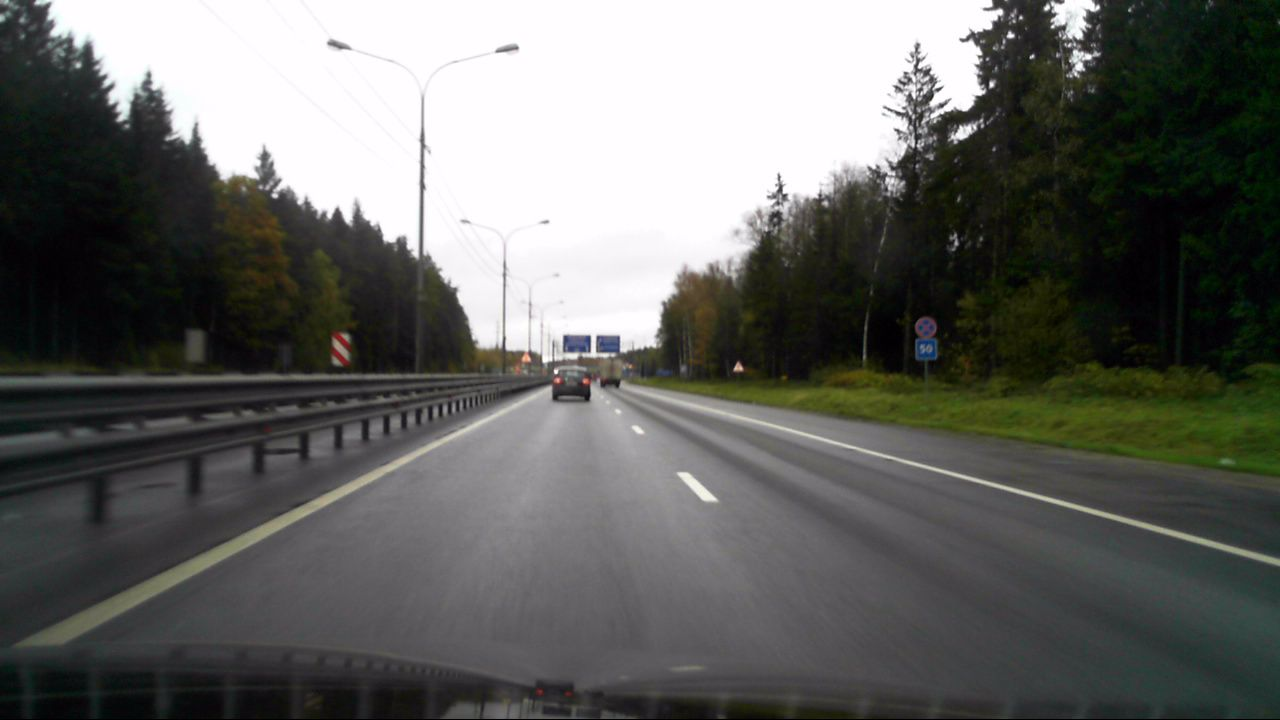No Parking: (915, 316, 935, 337)
